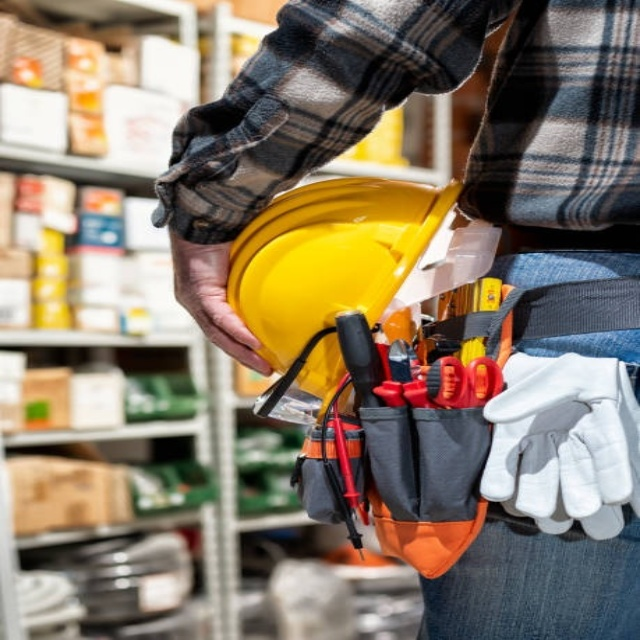Sin_guantes: (168, 230, 275, 379)
